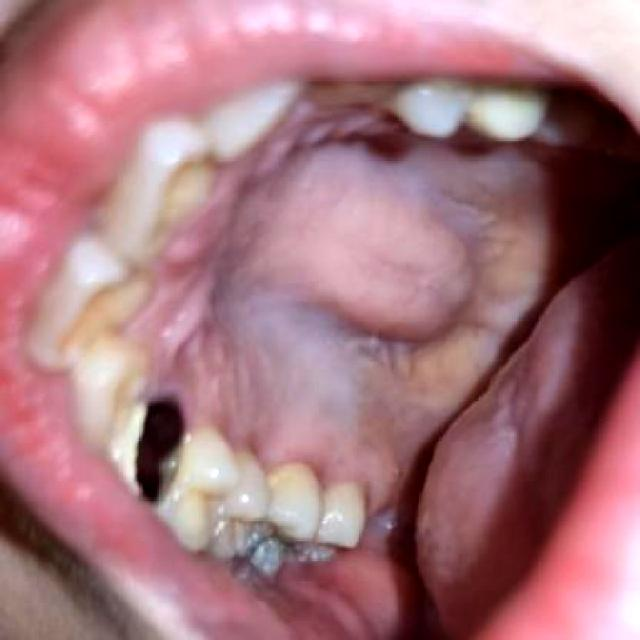Plaque: (219, 515, 308, 575)
